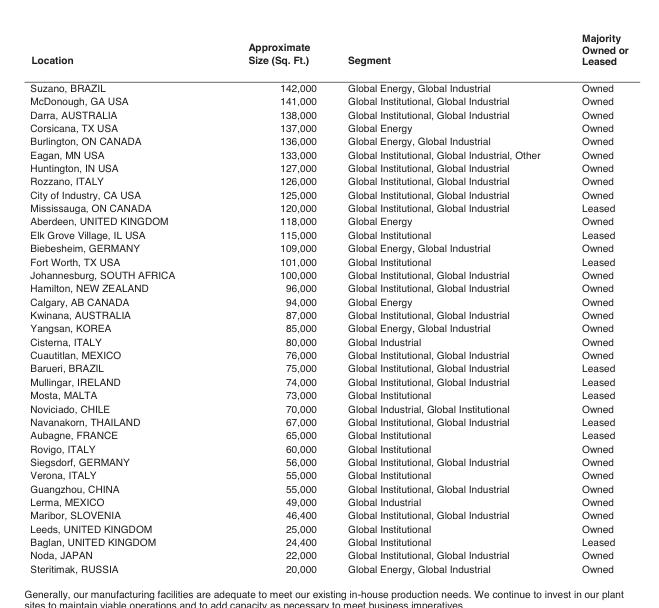table: (29, 29, 627, 576)
table column: (331, 29, 560, 576), (29, 29, 210, 576), (210, 29, 331, 576), (560, 29, 627, 576)
table column header: (29, 29, 627, 74)
table row: (29, 29, 627, 74), (29, 74, 627, 94), (29, 561, 627, 576), (29, 120, 627, 134), (29, 147, 627, 161), (29, 187, 627, 201), (29, 227, 627, 241), (29, 267, 627, 281), (29, 294, 627, 308), (29, 334, 627, 348), (29, 374, 627, 388), (29, 414, 627, 428), (29, 454, 627, 468), (29, 481, 627, 495), (29, 521, 627, 535), (29, 94, 627, 107), (29, 107, 627, 120), (29, 134, 627, 147), (29, 161, 627, 174), (29, 174, 627, 187), (29, 201, 627, 214), (29, 214, 627, 227), (29, 241, 627, 254), (29, 254, 627, 267), (29, 281, 627, 294), (29, 308, 627, 321), (29, 321, 627, 334), (29, 348, 627, 361), (29, 361, 627, 374), (29, 388, 627, 401), (29, 401, 627, 414), (29, 428, 627, 441), (29, 441, 627, 454), (29, 468, 627, 481), (29, 495, 627, 508), (29, 508, 627, 521), (29, 535, 627, 548), (29, 548, 627, 561)
